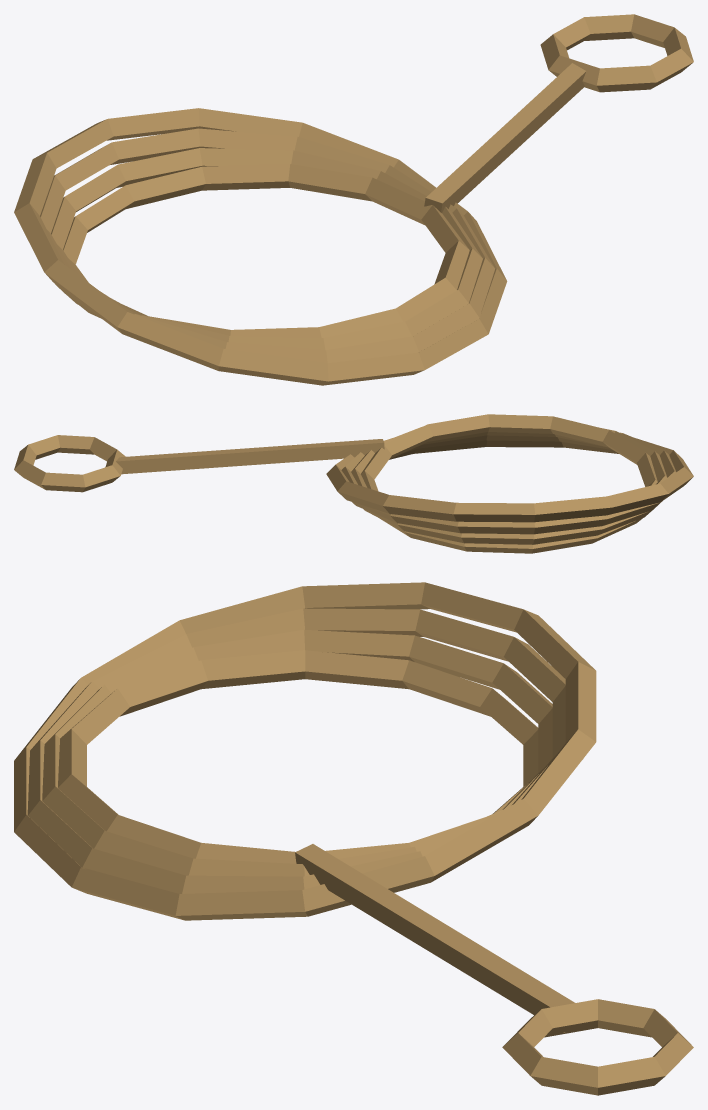
Rendered from SM_Lasso.obj.
3 renders of one model, top to bottom at view 1: azimuth 30°, elevation 25°; view 2: azimuth 150°, elevation 25°; view 3: azimuth 270°, elevation 25°, orthographic. The views are drawn at different scales.
Parts seen in each view (by area): view 1: SM_Lasso; view 2: SM_Lasso; view 3: SM_Lasso.
Part boxes in pixels (x1,y1,x2,y2): SM_Lasso: (14,14,693,385); SM_Lasso: (14,414,693,553); SM_Lasso: (14,582,693,1095).
Bounding box in the file's own units: 0.7984 × 0.1157 × 0.5107.
